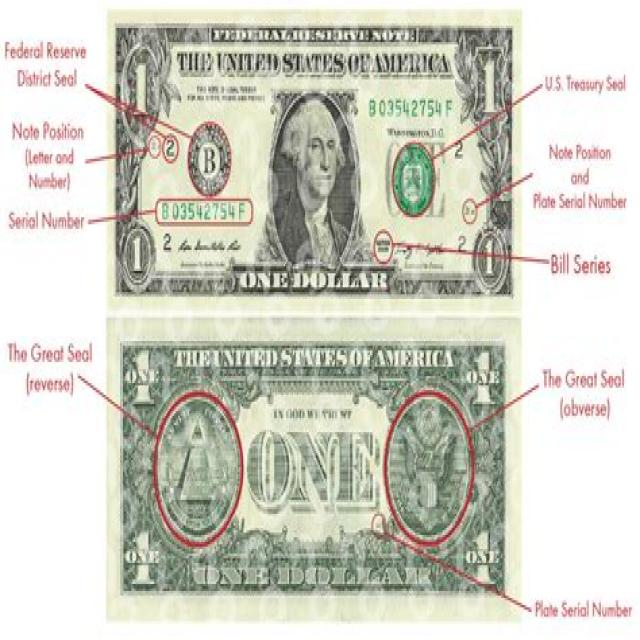One: (105, 9, 520, 312), (106, 318, 522, 620)
